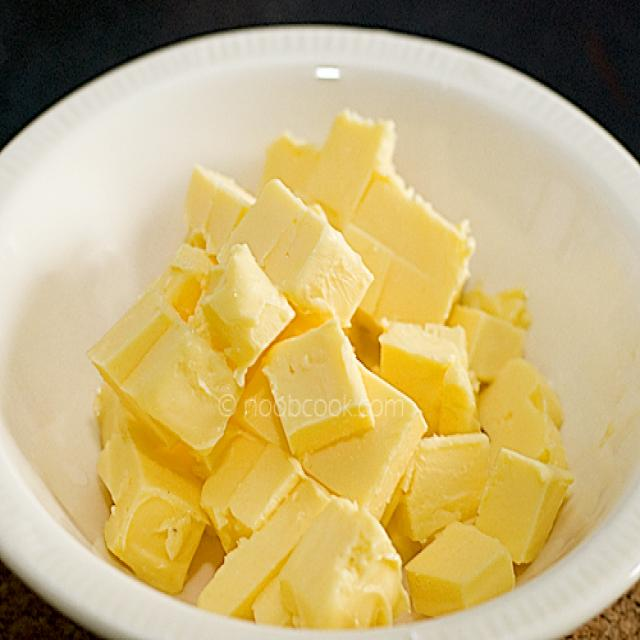Butter: (202, 492, 398, 630), (92, 307, 241, 464), (237, 176, 370, 340), (348, 178, 462, 336), (311, 365, 413, 522), (265, 321, 375, 450), (379, 314, 481, 435), (105, 466, 207, 584), (474, 440, 568, 567), (410, 515, 516, 618), (409, 425, 492, 538)
